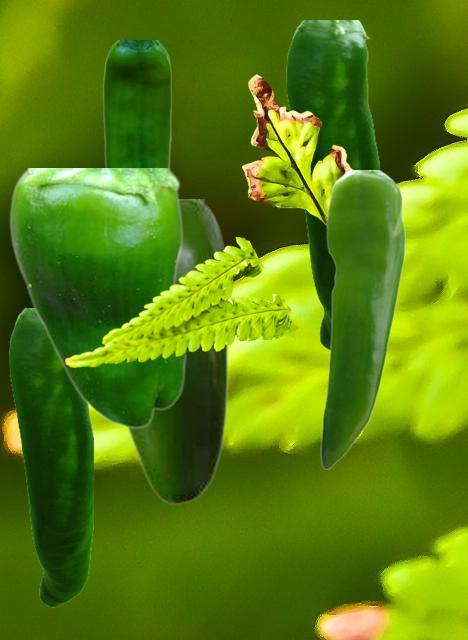green_chili: (8, 168, 185, 428), (123, 199, 227, 504), (286, 20, 378, 350), (320, 170, 404, 468), (9, 308, 92, 606), (102, 40, 171, 167)
